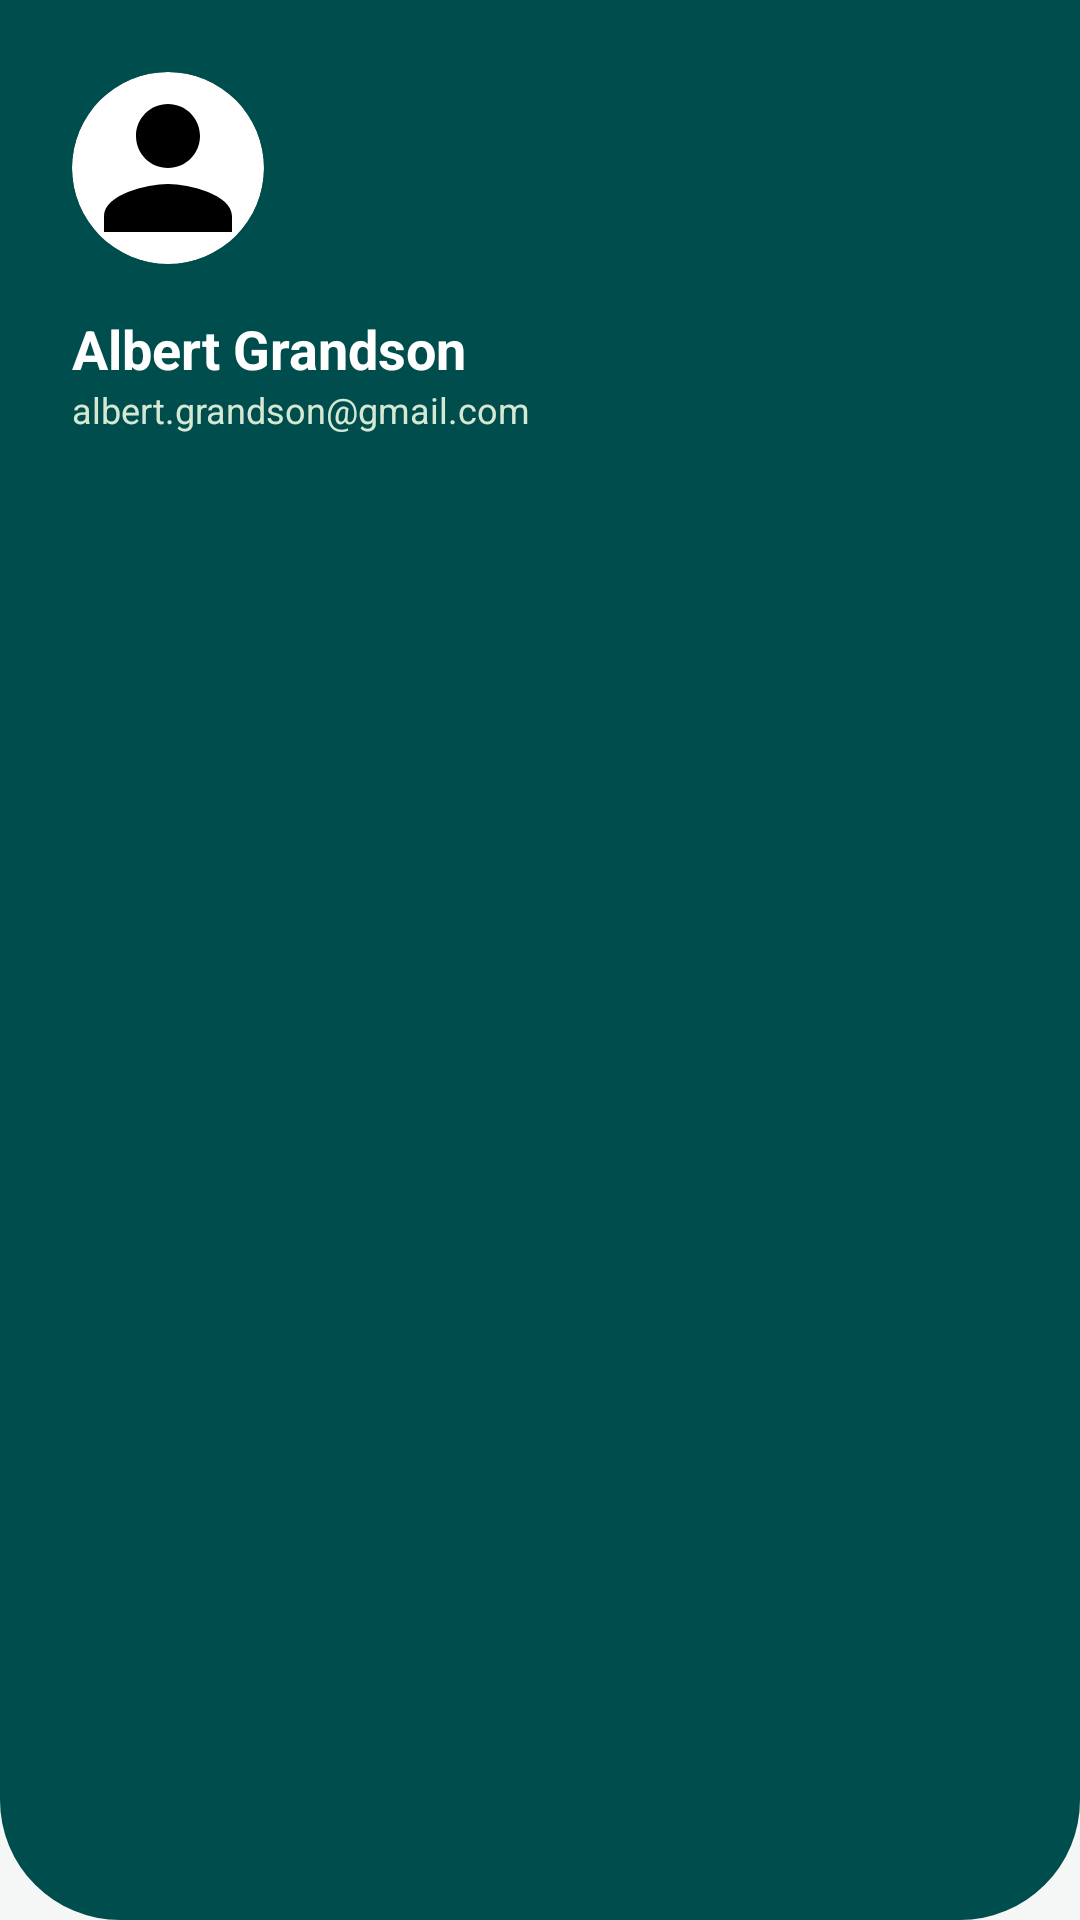

Where icons sit on this 1080px×1920px app screen, as (x1, y1, x2, y2):
profile: (72, 72, 264, 264)
